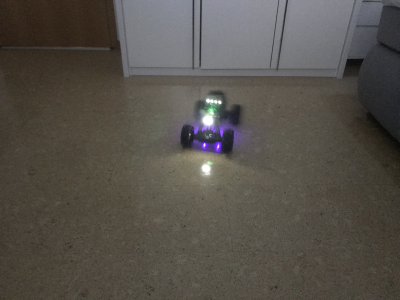remote control car: (178, 89, 242, 155)
